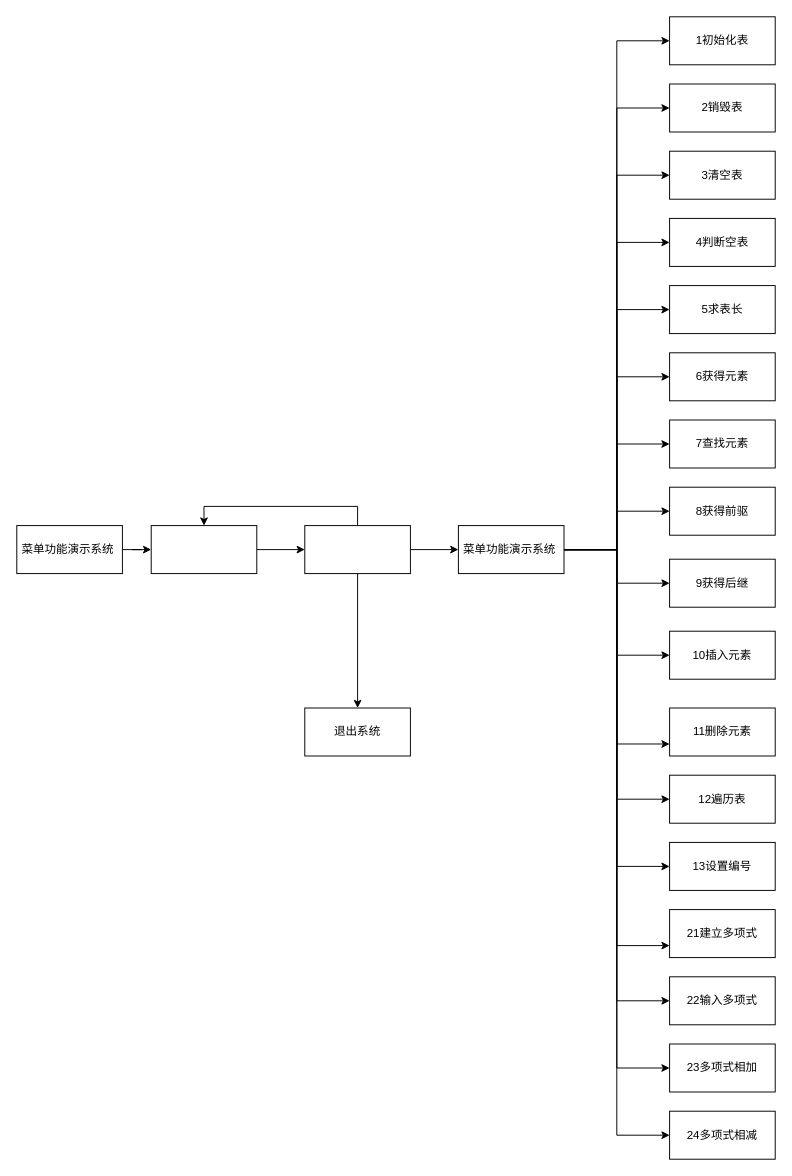
Some shapes in this 792 by 1176 pixel diagram are drawn without their labels. The shapes that lost their labels are listed below. From the top down, each one's box as (x1, y1, x2, y2) in pixels, then its label:
(150, 525, 257, 574): 输入数字选择功能
(304, 525, 410, 574): 输入操作的线性表的序号
